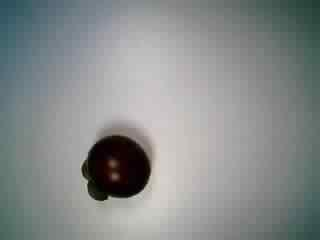mangosteen: (79, 131, 153, 210)
